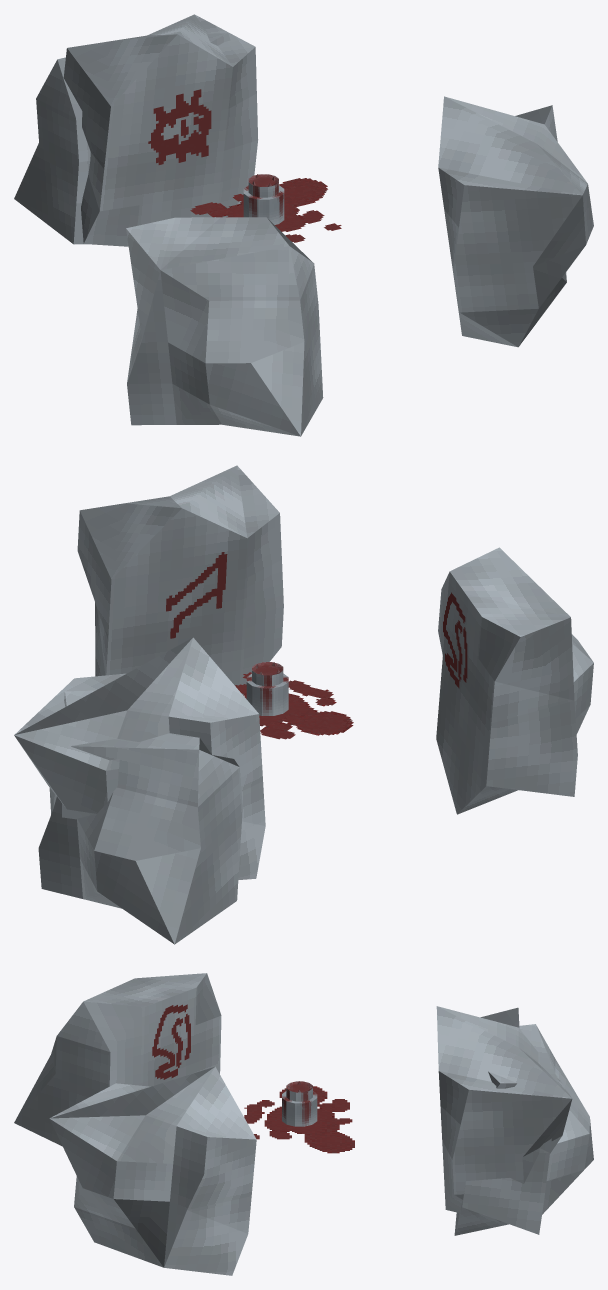
The model's file is ritual_site.gltf.
3 views of the same model, one above another, from view 1: azimuth 30°, elevation 25°; view 2: azimuth 150°, elevation 25°; view 3: azimuth 270°, elevation 25° (orthographic). The views are drawn at different scales.
Visible parts, largest first — view 1: group, mesh, plane (×2), cylinder; view 2: group, mesh, plane (×3), cylinder; view 3: group, mesh, plane (×2), cylinder.
Boxes of the visible parts, x1,y1,x2,y2 form: group: [63, 14, 593, 436]; mesh: [14, 32, 241, 244]; plane (×2): [148, 89, 341, 242]; cylinder: [243, 174, 284, 224]; group: [14, 465, 593, 879]; mesh: [38, 690, 242, 944]; plane (×3): [166, 552, 467, 739]; cylinder: [246, 662, 288, 715]; group: [14, 973, 572, 1275]; mesh: [454, 1024, 593, 1235]; plane (×2): [152, 1004, 354, 1153]; cylinder: [282, 1081, 317, 1126].
Size of the model in its own units: 2.85 by 1.51 by 3.61.
5 materials, 4 textured.
